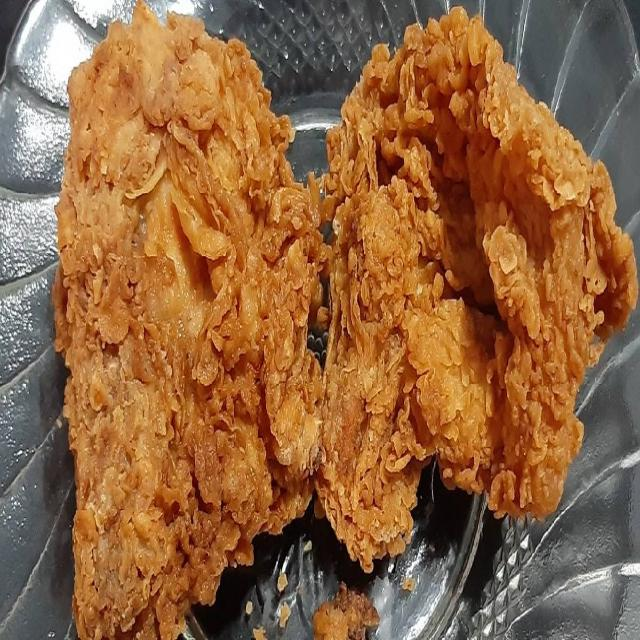Frango: (319, 5, 636, 573), (58, 11, 322, 640)
